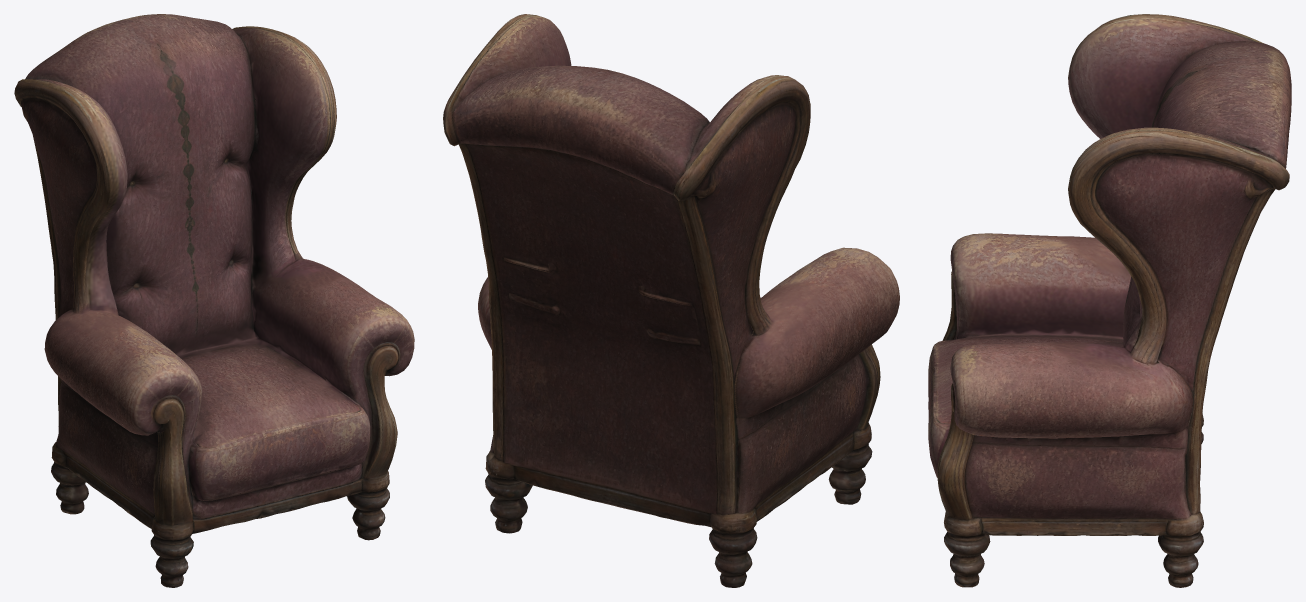
File: Furn_WingbackChair.fbx
The picture shows the model from 3 angles, left to right: view 1: azimuth 30°, elevation 25°; view 2: azimuth 150°, elevation 25°; view 3: azimuth 270°, elevation 25°; orthographic projection. The views are drawn at different scales.
Parts seen in each view (by area): view 1: texture_mapping; view 2: texture_mapping; view 3: texture_mapping.
Part boxes in pixels (x1,y1,x2,y2): texture_mapping: [14, 14, 414, 587]; texture_mapping: [443, 14, 899, 587]; texture_mapping: [928, 14, 1291, 587].
Size of the model in its own units: 0.6879 by 0.7016 by 1.
Materials: 1 (1 with a texture image).
